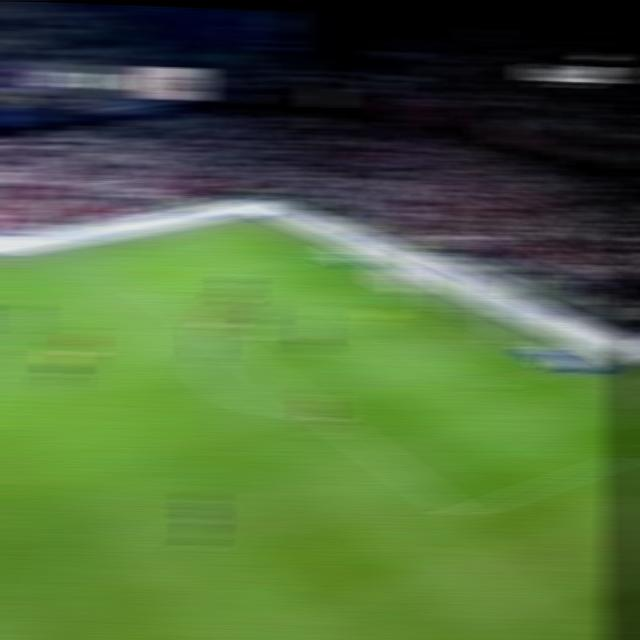bigarea_bottom_inner: (442, 500, 478, 525)
bigarea_top_inner: (136, 282, 170, 302)
bigarea_top_outter: (306, 248, 336, 264)
bottom_arc_area_intersection: (312, 408, 345, 428)
corner: (234, 215, 267, 229)
smallarea_bottom_inner: (469, 375, 505, 397)
smallarea_bottom_outter: (535, 361, 567, 376)
smallarea_top_inner: (325, 296, 355, 311)
smallarea_top_outter: (376, 284, 410, 299)
top_arc_area_intersection: (206, 331, 240, 353)
